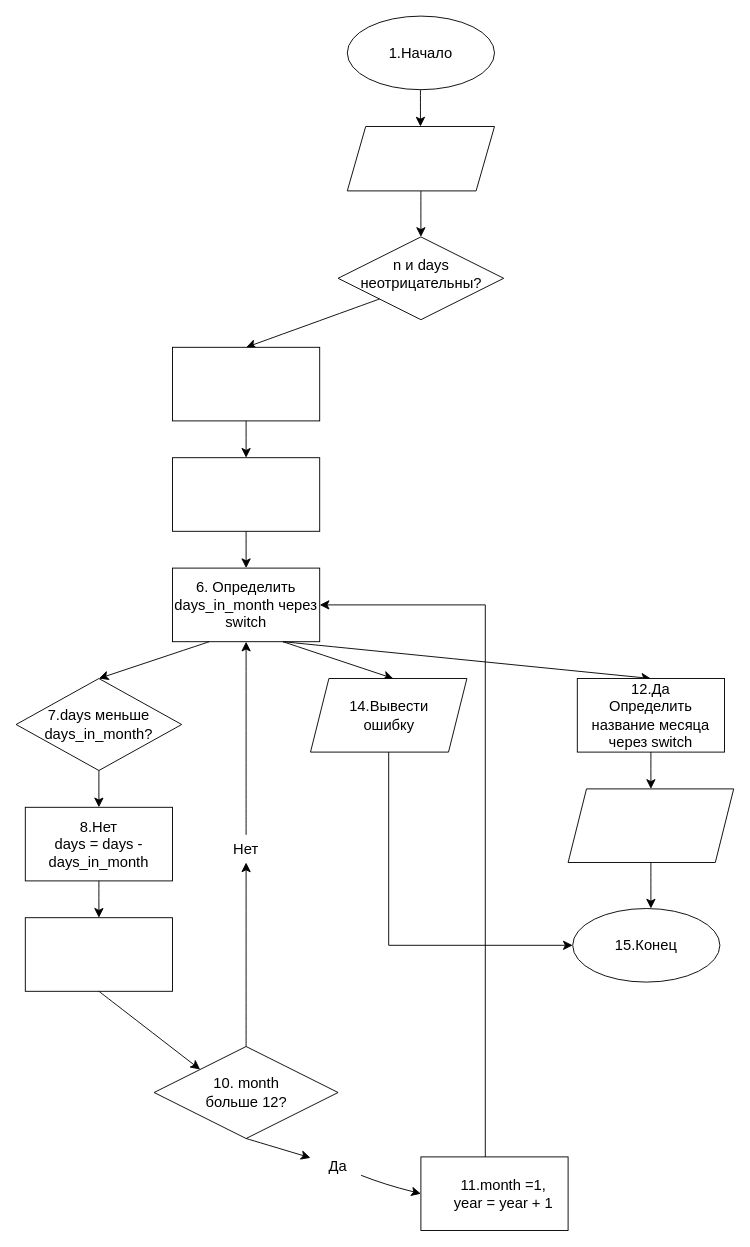
Image size: 750x1247. Some labels were removed from this diagram. The box of each missing label's shape, as (x1, y1, x2, y2) in pixels:
13.Вывести месяц и год: (567, 788, 734, 862)
2.Ввод n, days: (346, 126, 494, 191)
4.Да month = n % 12 + 1: (172, 346, 320, 421)
5.year = 2000 + n / 12: (172, 457, 320, 531)
9. month = month + 1: (24, 917, 172, 991)
